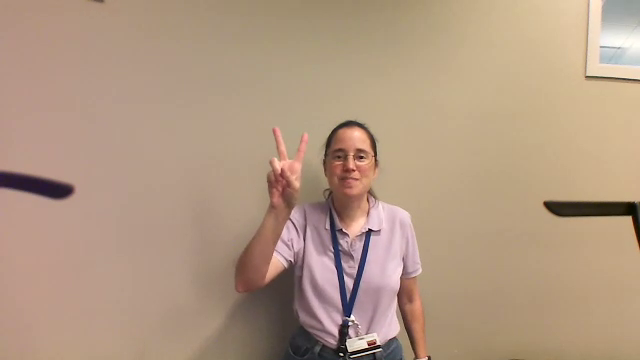peace: (248, 112, 316, 208)
